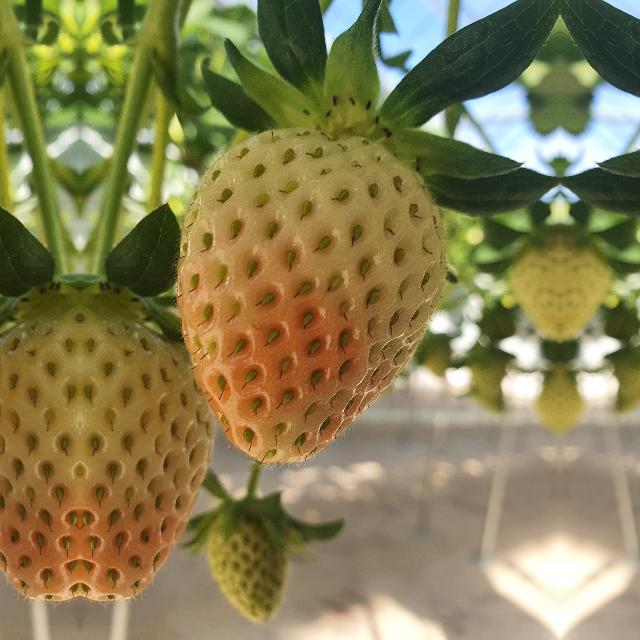Health_50: (176, 127, 446, 463)
